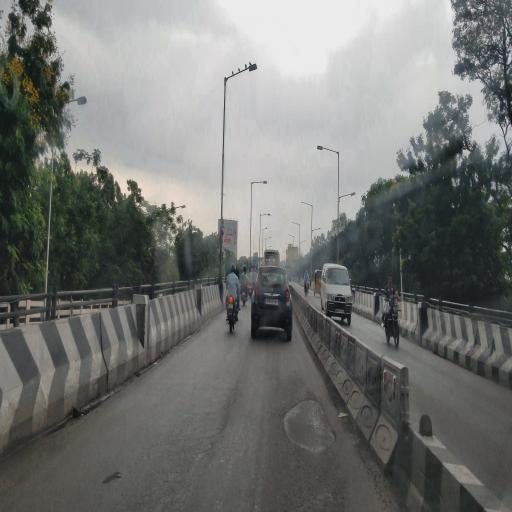street_light_0: (222, 54, 260, 86), (58, 79, 91, 113), (314, 124, 342, 160), (246, 167, 272, 191), (337, 181, 355, 205), (300, 194, 315, 216), (259, 198, 271, 220), (290, 212, 303, 228), (311, 216, 322, 232)
